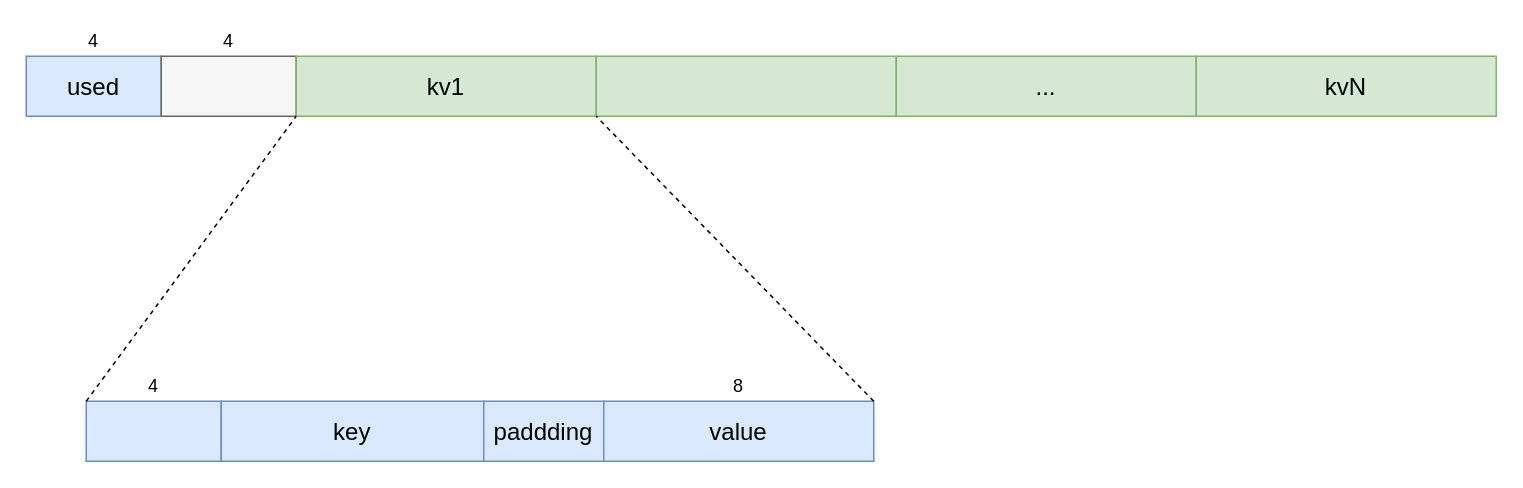
Image size: 1523x488. Some labels were removed from this diagram. The box of each missing label's shape, as (x1, y1, x2, y2) in pixels:
kv2: (595, 55, 896, 116)
len: (85, 400, 221, 461)
